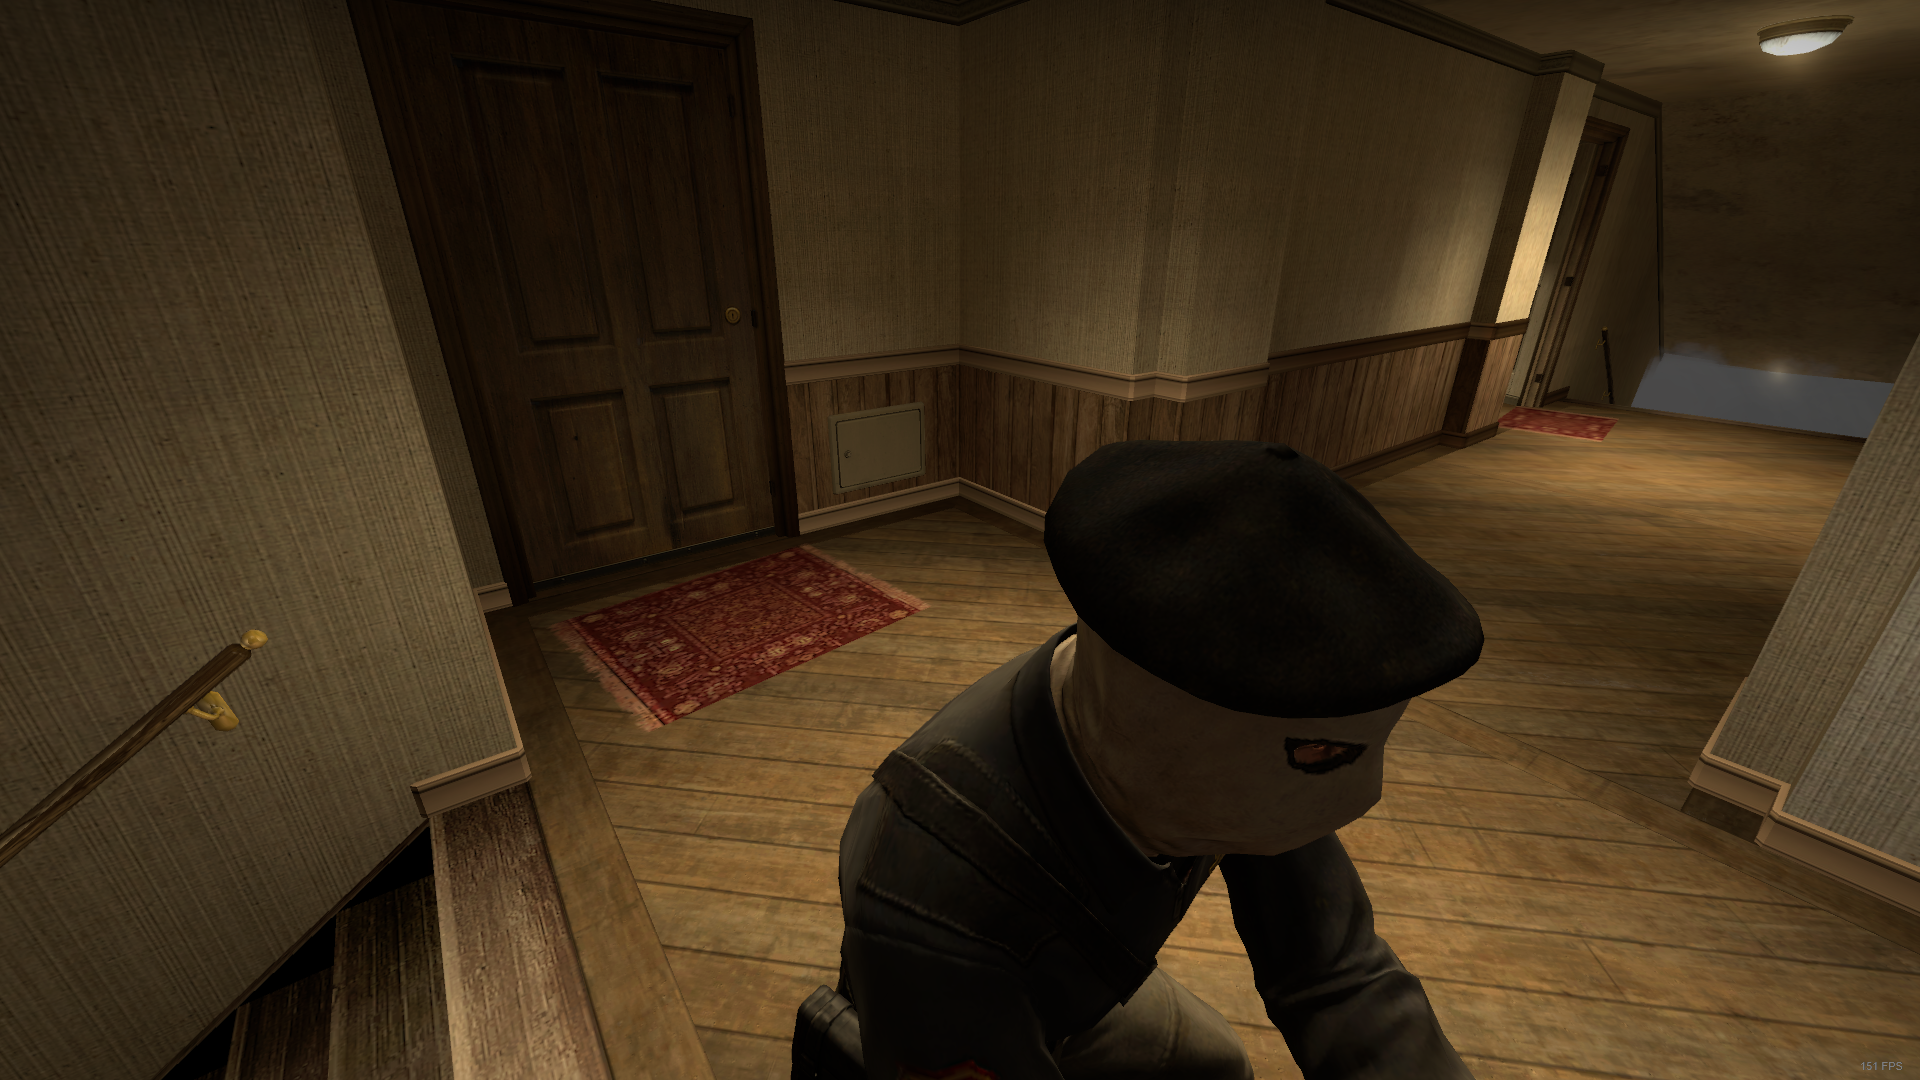t: (746, 429, 1506, 1080)
